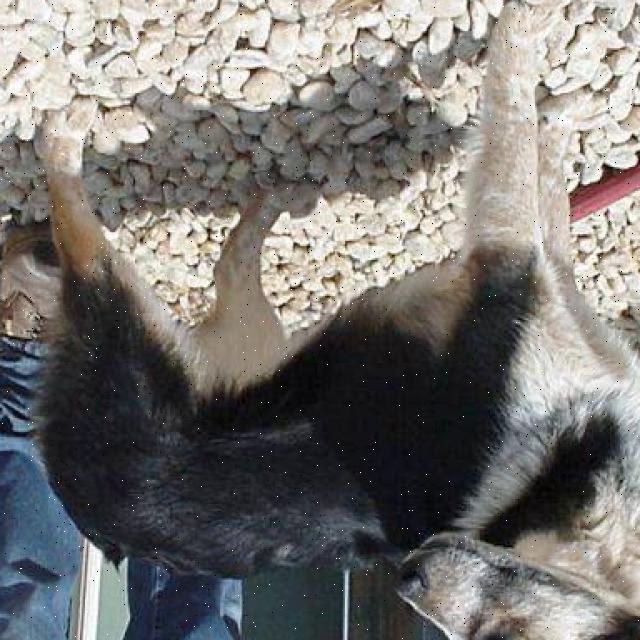Dog: (388, 523, 640, 640)
